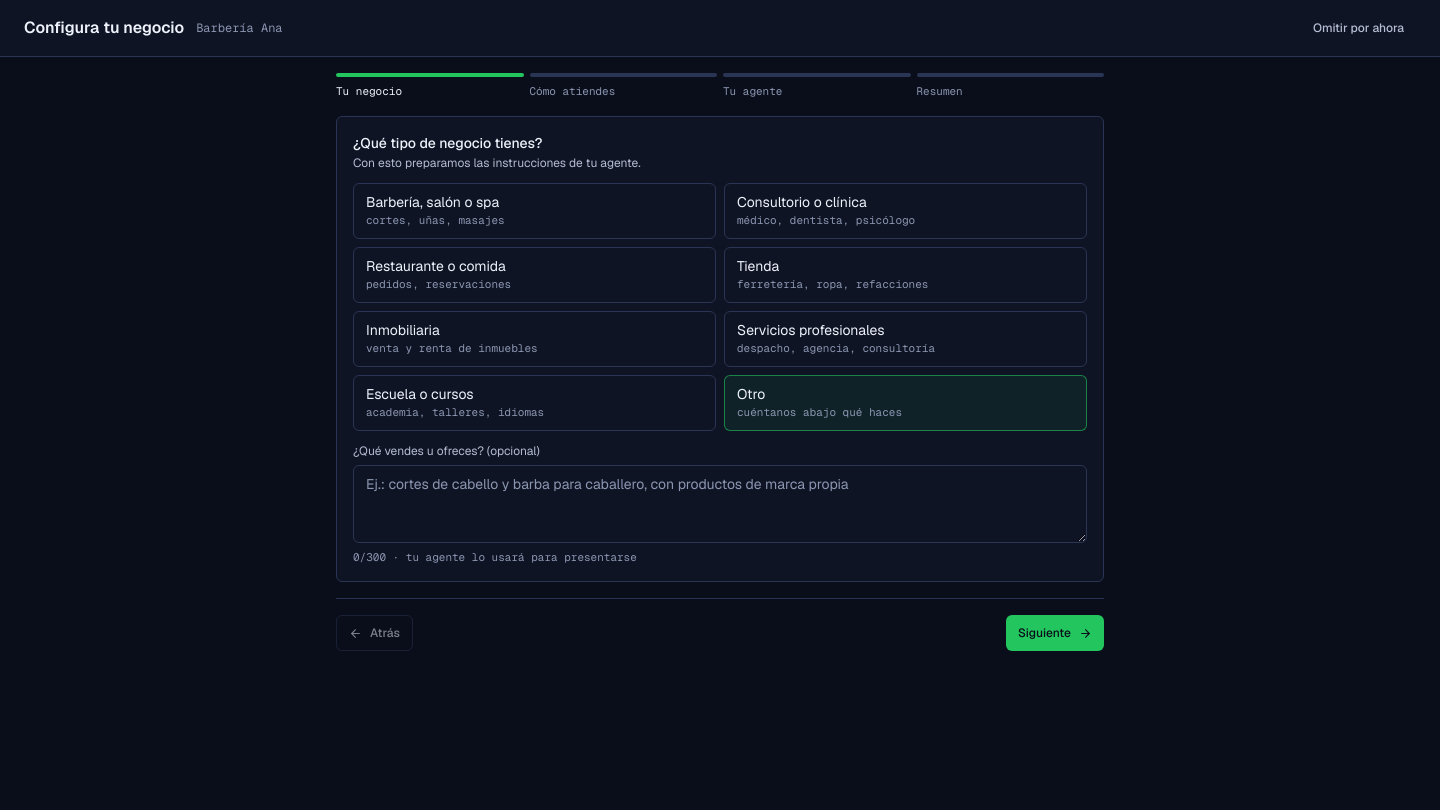
Test: muestra el error del backend sin avanzar
The width and height of the screenshot is (1440, 810).
Click the radio button labelled "Barbería, salón o spa cortes, uñas, masajes".
click(433, 202)  # box [353,182,716,238]
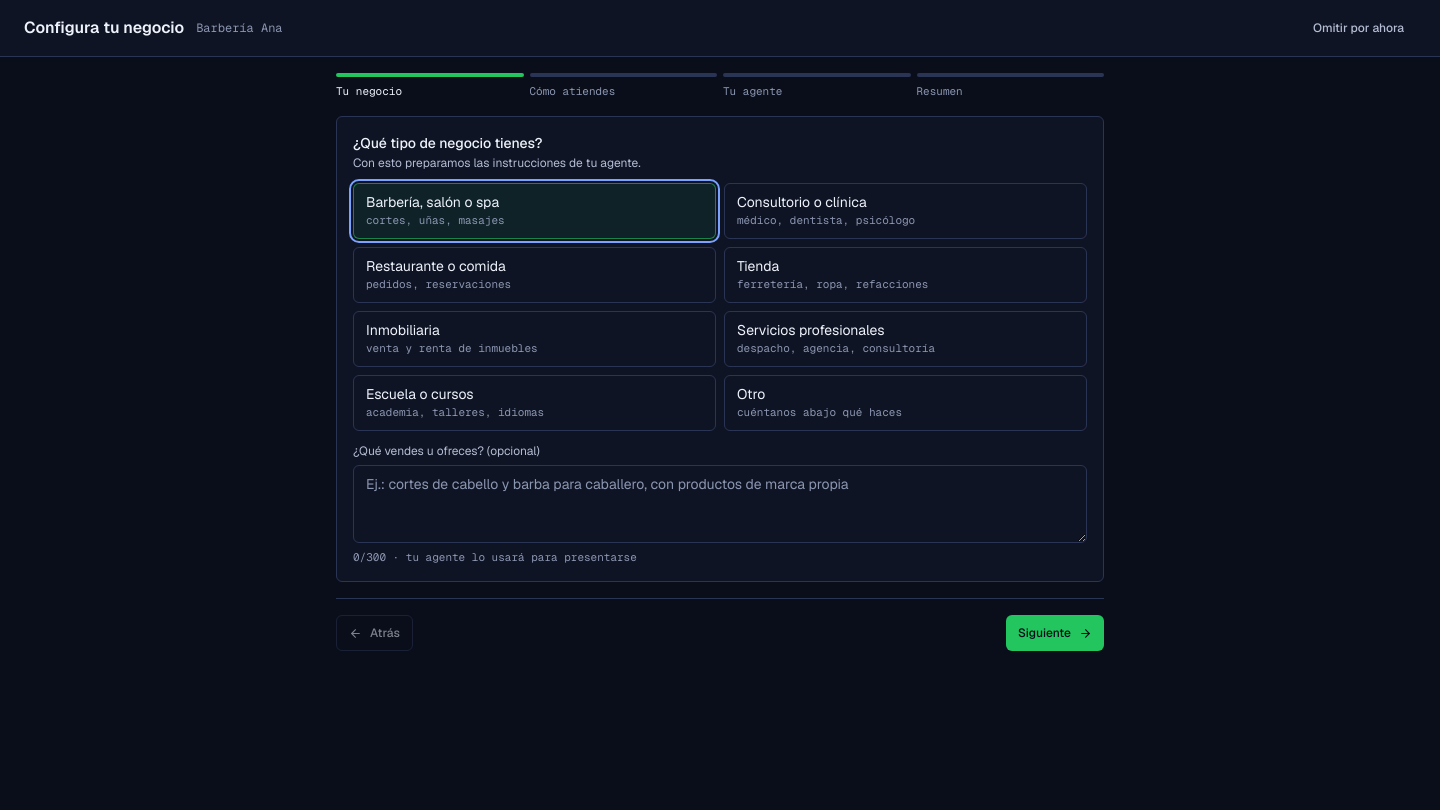
Click the button "Siguiente".
click(1055, 633)  # box [1006,615,1104,651]
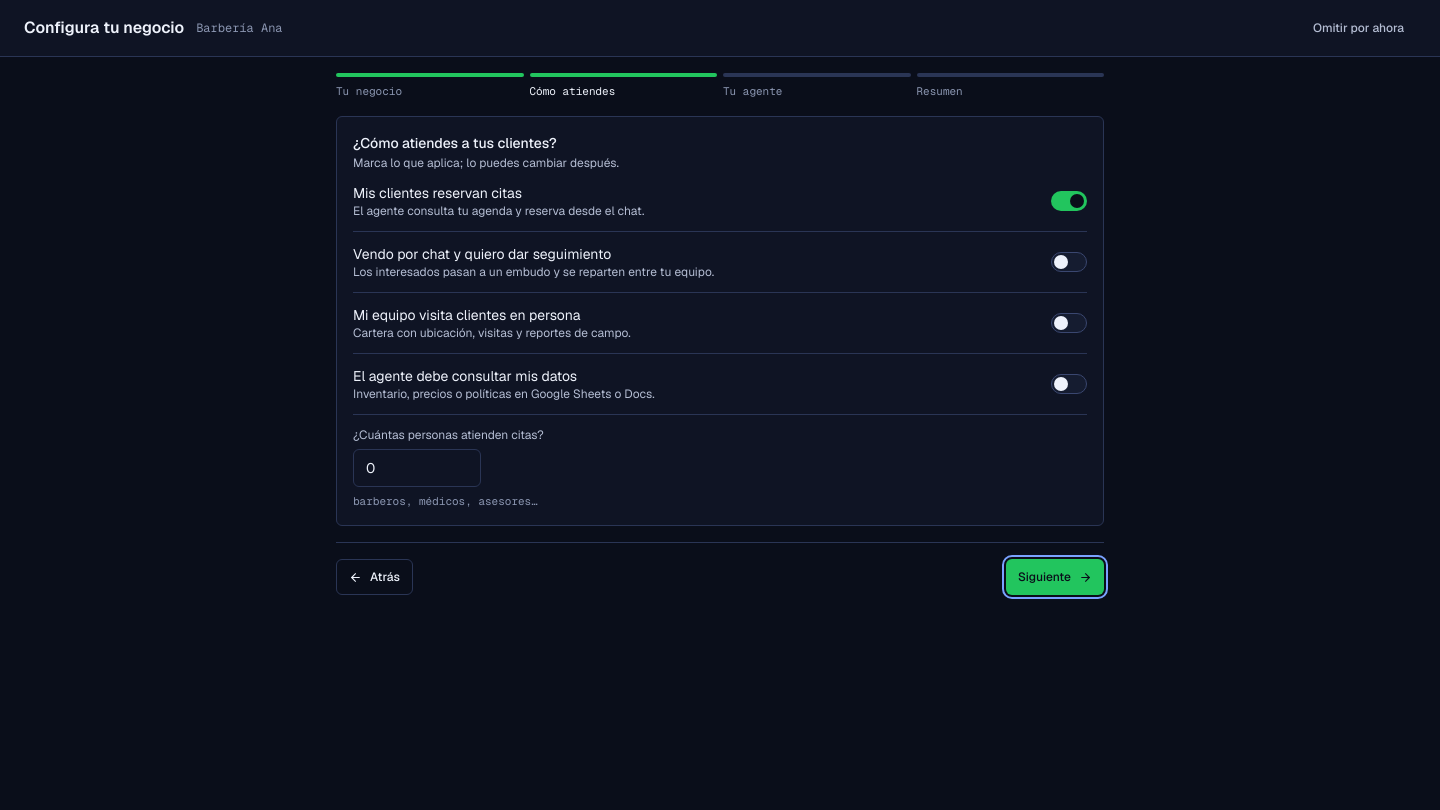
Click the button "Siguiente".
click(1055, 577)  # box [1006,559,1104,595]
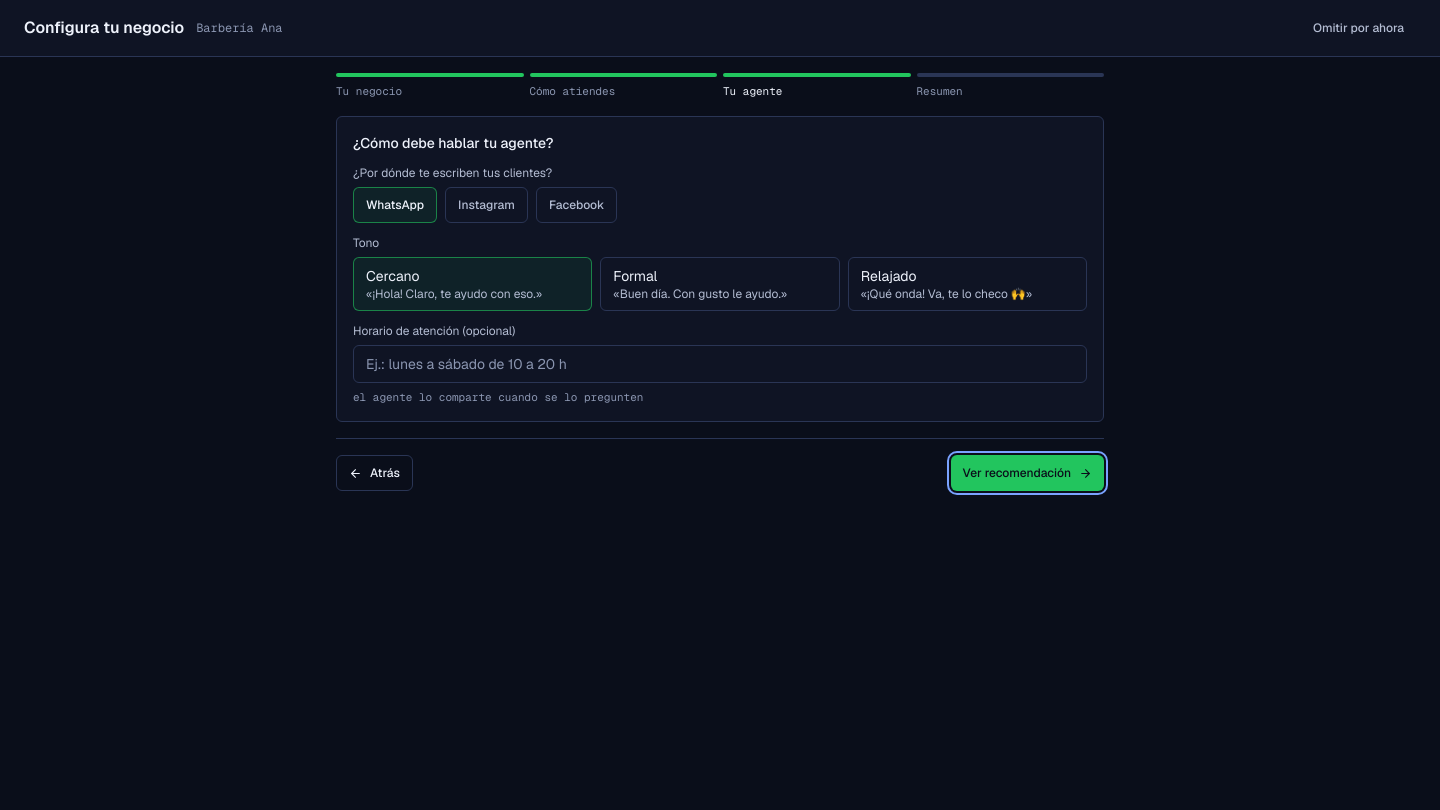
Click the button "Ver recomendación".
click(1027, 473)  # box [950,455,1104,491]
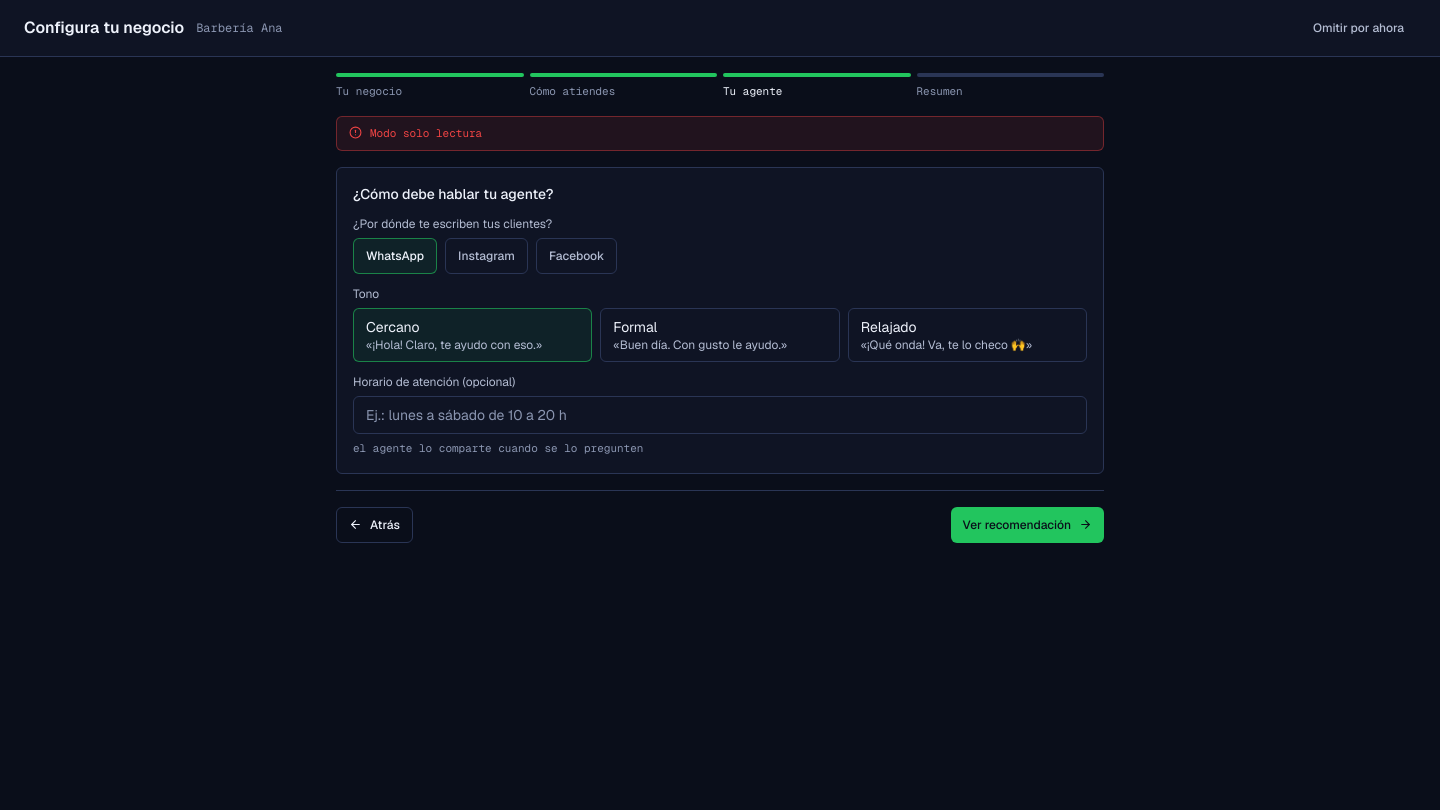
Result: the message "Modo solo lectura" is shown at [336,116,1104,151]
